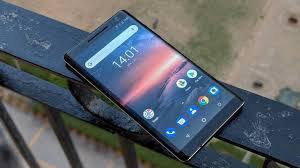nokia: (59, 6, 246, 161)
